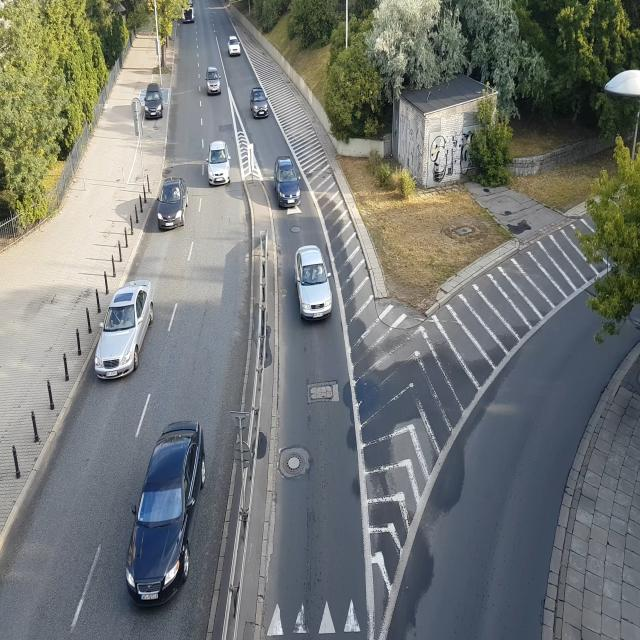car: (121, 410, 213, 610), (94, 280, 158, 380), (291, 244, 336, 324), (157, 179, 187, 232), (274, 157, 304, 210), (207, 140, 232, 188), (143, 86, 165, 119), (250, 88, 272, 119), (206, 68, 221, 96), (228, 41, 242, 58)
truck: (180, 0, 197, 30)
